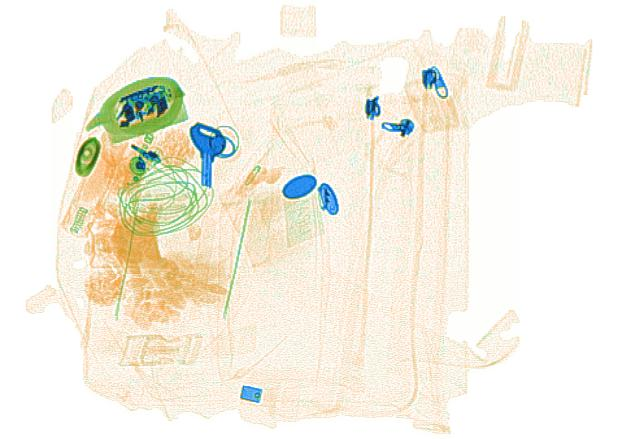plasticBottleWithaNozzle: (59, 132, 128, 239)
